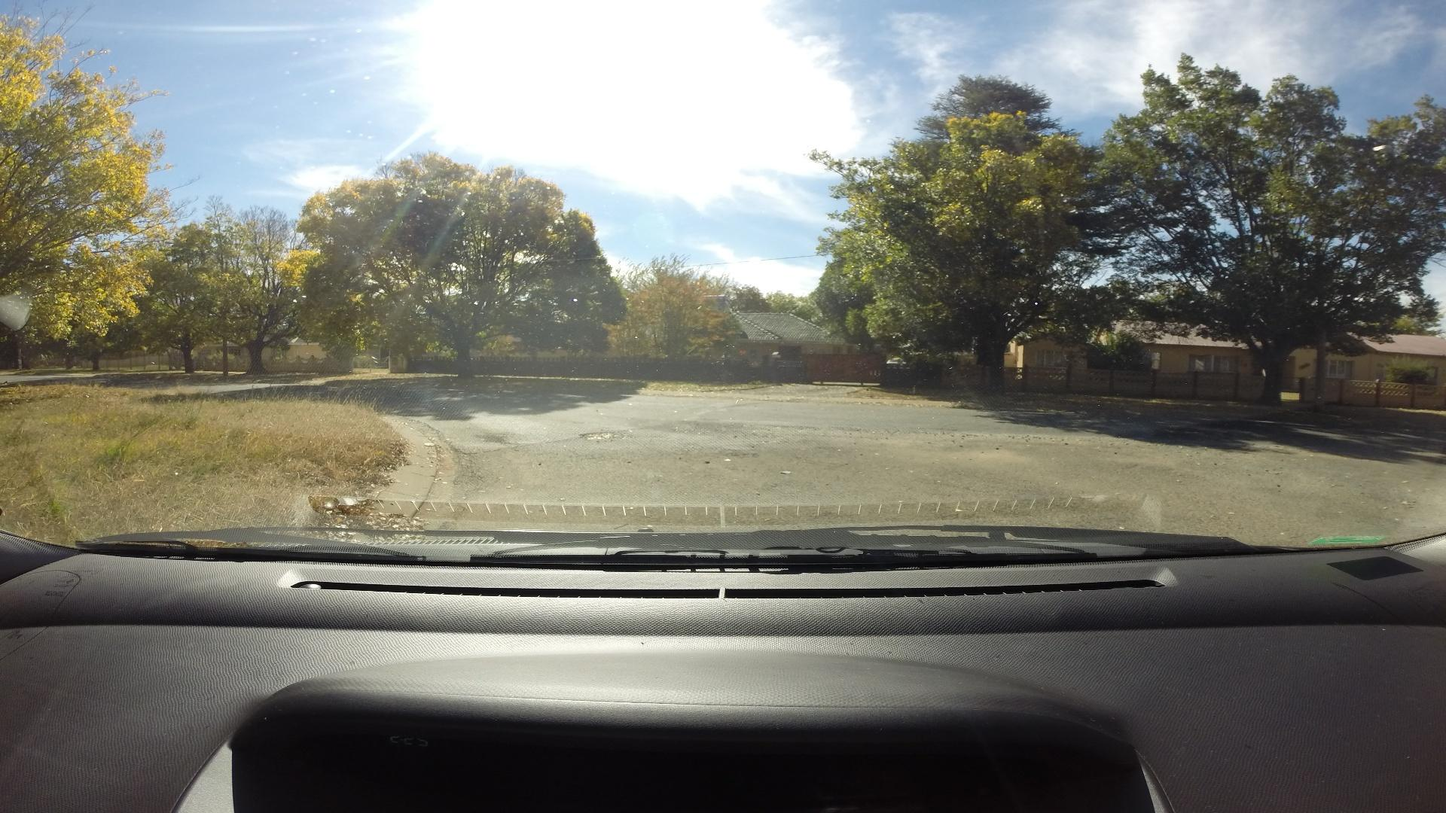pothole: (581, 429, 623, 440)
